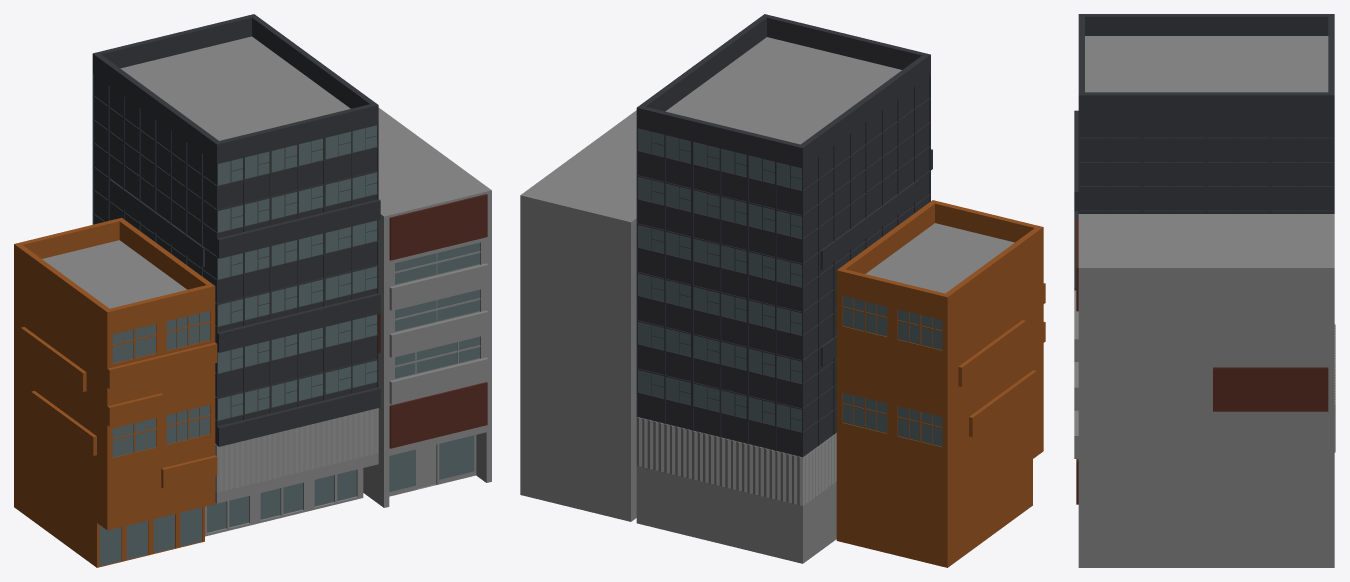
The model's file is fourbuildings.fbx.
The picture shows the model from 3 angles, left to right: view 1: azimuth 30°, elevation 25°; view 2: azimuth 150°, elevation 25°; view 3: azimuth 270°, elevation 25°; orthographic projection. The views are drawn at different scales.
Visible parts, largest first — view 1: Building; view 2: Building; view 3: Building.
Boxes of the visible parts, x1,y1,x2,y2 form: Building: (14,14,491,567); Building: (520,14,1045,567); Building: (1074,14,1335,567).
Size of the model in its own units: 2170 by 2150 by 1225.
